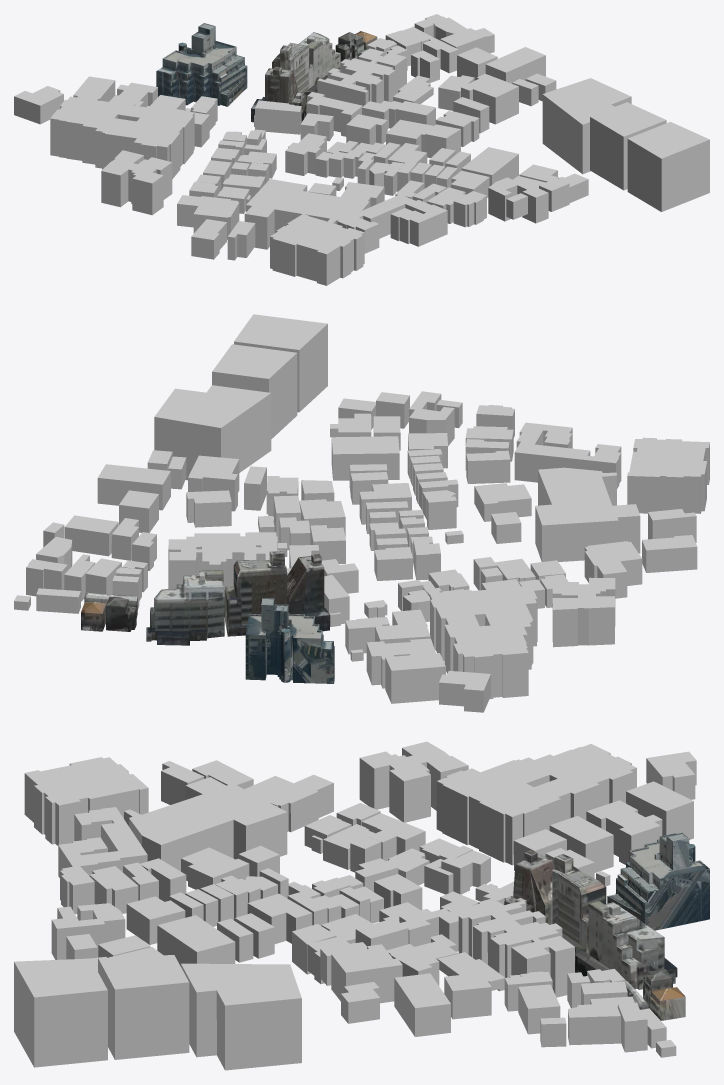
File: data643.glb
The picture shows the model from 3 angles, top to bottom: view 1: azimuth 30°, elevation 25°; view 2: azimuth 150°, elevation 25°; view 3: azimuth 270°, elevation 25°; orthographic projection. The views are drawn at different scales.
Bounding box in the file's own units: 198 × 26.33 × 198.
2 materials, 1 textured.
